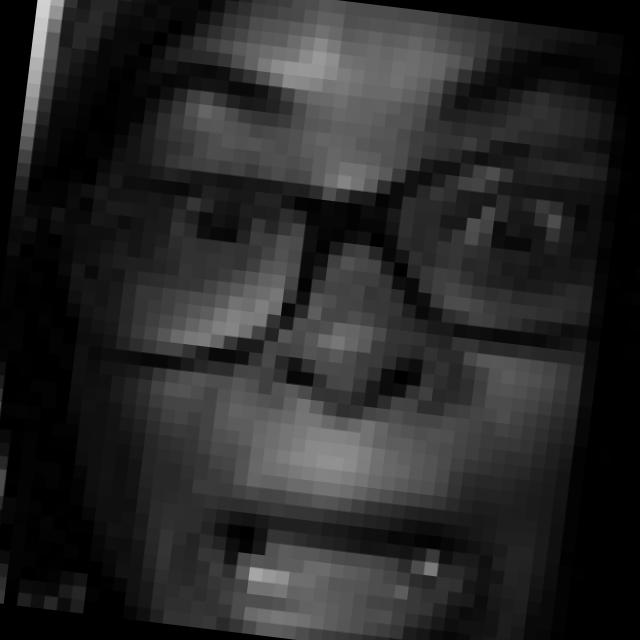fear: (72, 2, 631, 640)
